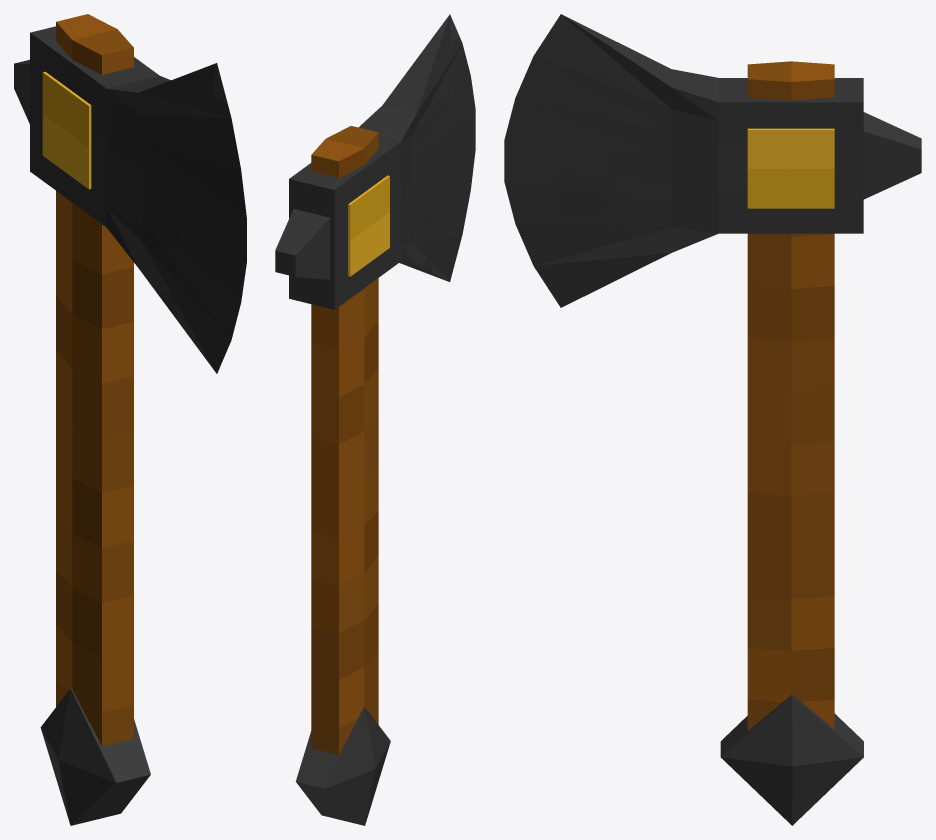
Rendered from survival-island.fbx.
The picture shows the model from 3 angles, left to right: view 1: azimuth 30°, elevation 25°; view 2: azimuth 150°, elevation 25°; view 3: azimuth 270°, elevation 25°; orthographic projection. The views are drawn at different scales.
Visible parts, largest first — view 1: cube_2, cube, cube_4, cube_5, cube_3, cube_1; view 2: cube_2, cube, cube_5, cube_4, cube_1, cube_3; view 3: cube, cube_2, cube_5, cube_4, cube_3, cube_1.
Boxes of the visible parts, x1,y1,x2,y2 form: cube_2: (56,14,133,746); cube: (107,63,246,373); cube_4: (40,688,150,825); cube_5: (30,26,159,227); cube_3: (42,71,91,189); cube_1: (14,59,29,123); cube_2: (311,126,378,754); cube: (358,14,475,281); cube_5: (289,136,400,309); cube_4: (295,707,390,825); cube_1: (275,209,330,279); cube_3: (348,175,389,276); cube: (504,14,718,307); cube_2: (747,61,834,730); cube_5: (718,78,863,233); cube_4: (720,694,863,825); cube_3: (747,128,834,208); cube_1: (863,112,921,199).
Bounding box in the file's own units: 8.75 × 95.18 × 45.
